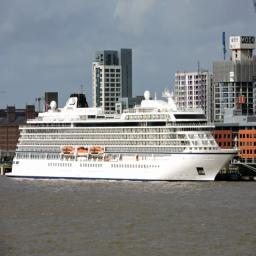cruises: (5, 88, 244, 183)
